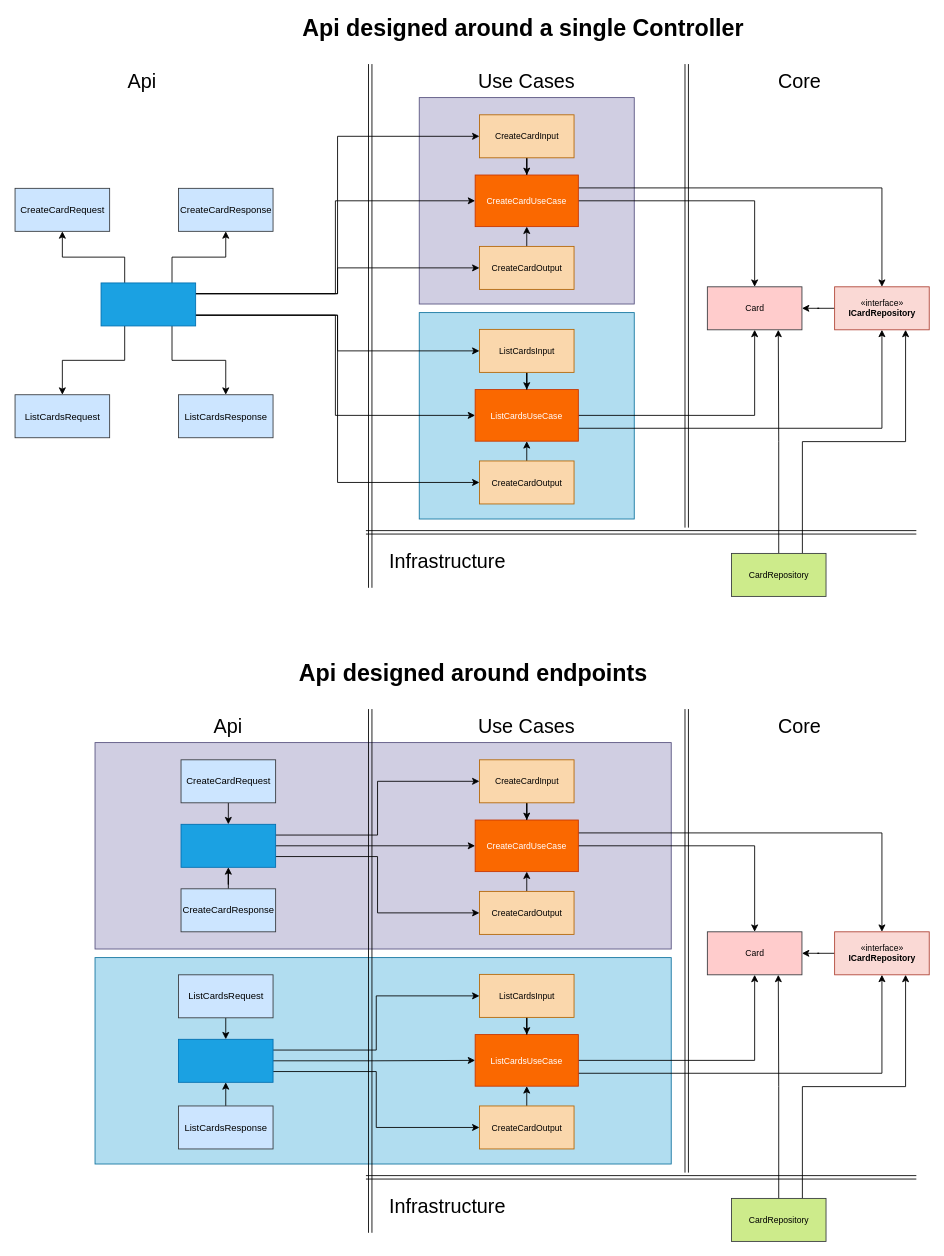
This 944x1256 diagram has some shape labels left out. The shapes that lost their labels are listed below. From the top down, each one's centre as x and y in pixels, then its label:
the point at 148,304: CardController
the point at 228,845: CreateCardEndpoint
the point at 225,1060: ListCardsEndpoint
